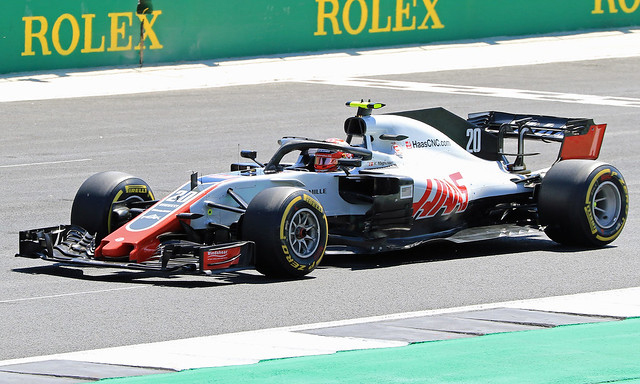F1 Car: (15, 96, 631, 284)
